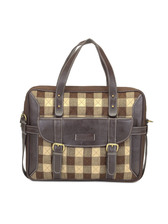bag: (12, 35, 154, 184)
